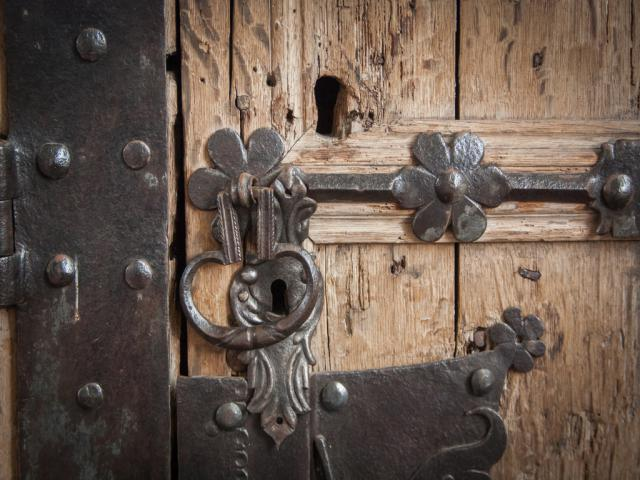Door-handle: (180, 126, 326, 450)
